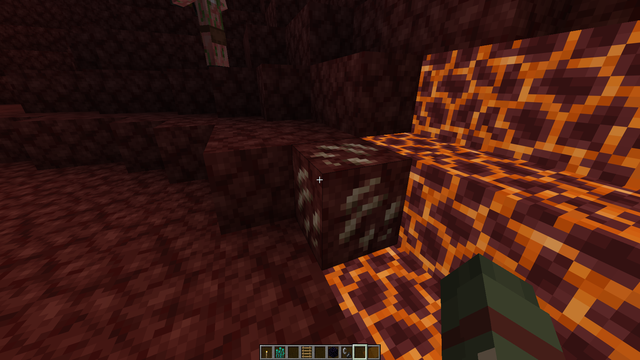quartz: (287, 134, 409, 257)
